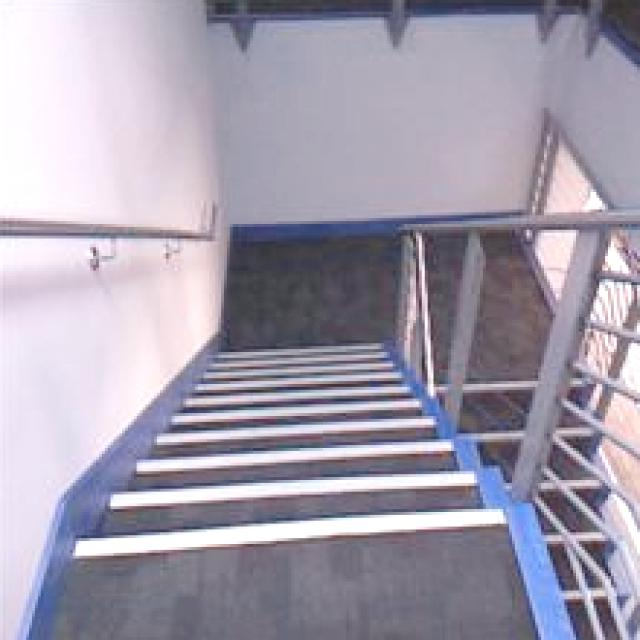downstair: (51, 405, 505, 606)
